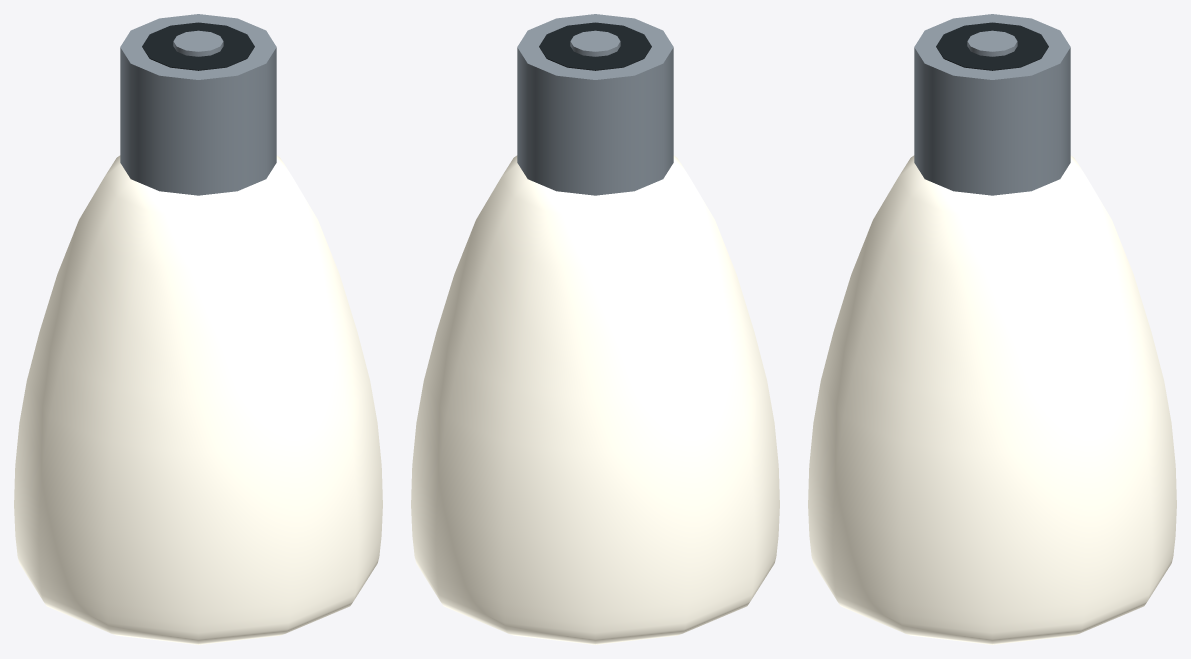
The model's file is source.glb.
The picture shows the model from 3 angles, left to right: view 1: azimuth 30°, elevation 25°; view 2: azimuth 150°, elevation 25°; view 3: azimuth 270°, elevation 25°; orthographic projection.
Parts seen in each view (by area): view 1: Emitters, 机加工金属, 密封及绝缘件; view 2: Emitters, 机加工金属, 密封及绝缘件; view 3: Emitters, 机加工金属, 密封及绝缘件.
Boxes of the visible parts, x1,y1,x2,y2 form: Emitters: (14,155,382,644); 机加工金属: (120,14,276,195); 密封及绝缘件: (142,22,254,70); Emitters: (411,155,779,644); 机加工金属: (517,14,673,195); 密封及绝缘件: (539,22,651,70); Emitters: (808,155,1176,644); 机加工金属: (914,14,1070,195); 密封及绝缘件: (936,22,1048,70).
Size of the model in its own units: 0.0637 by 0.1024 by 0.0637.
